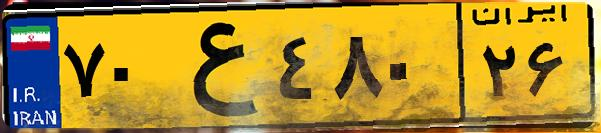0: (385, 28, 445, 110), (110, 28, 158, 98)
2: (475, 38, 525, 113)
4: (270, 28, 330, 110)
6: (525, 38, 570, 115)
7: (57, 26, 110, 100)
8: (330, 28, 385, 110)
ع: (158, 12, 270, 120)
